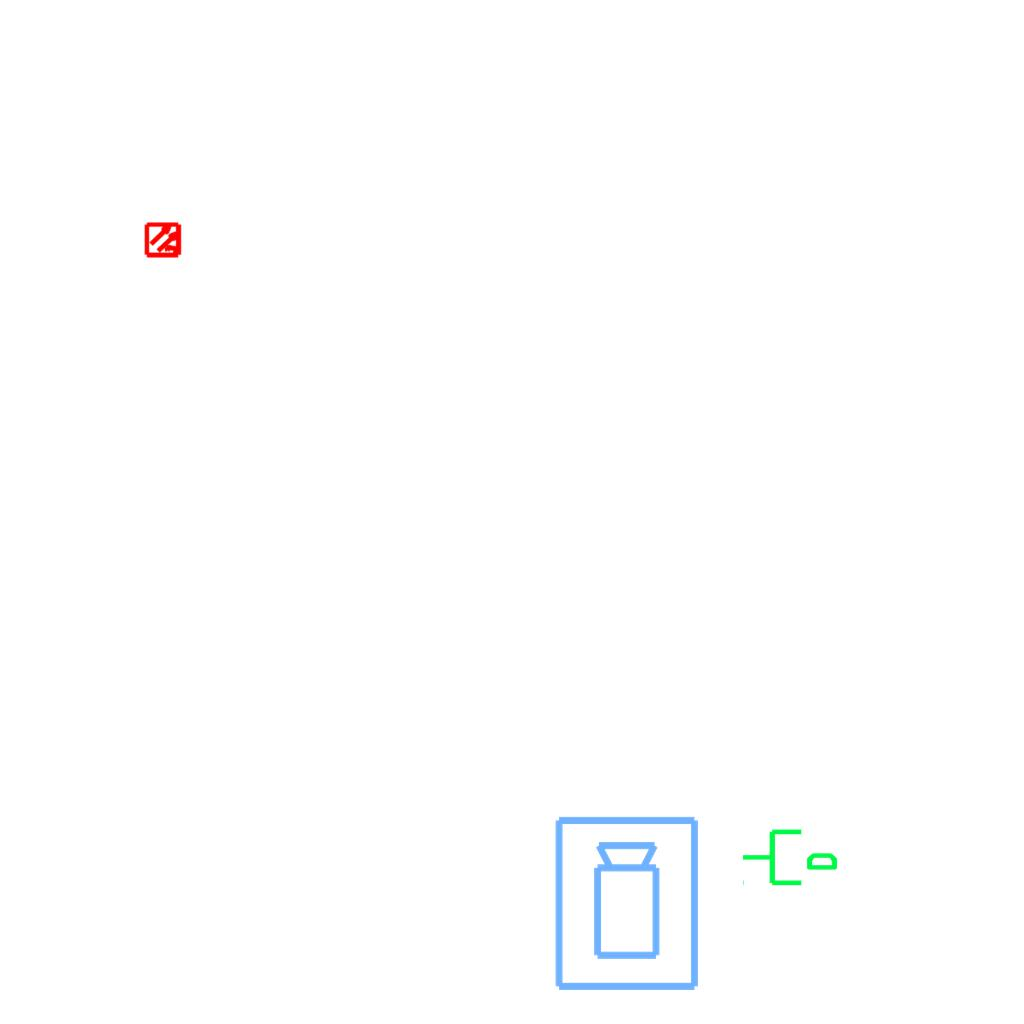Datenanschluss_einfach: (740, 821, 840, 890)
KFO_Kamera_mit_Festobjektiv: (551, 813, 705, 995)
OT_Multisensormelder_(Kombination_RMO_WMD): (136, 212, 192, 268)
